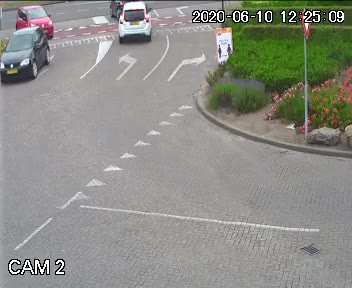car: (1, 31, 57, 84), (108, 8, 162, 43), (11, 3, 58, 34)
